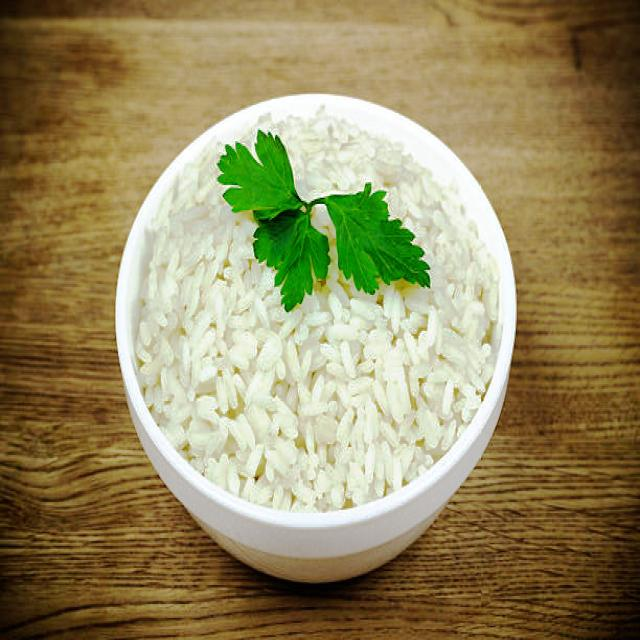rice: (134, 102, 498, 511)
